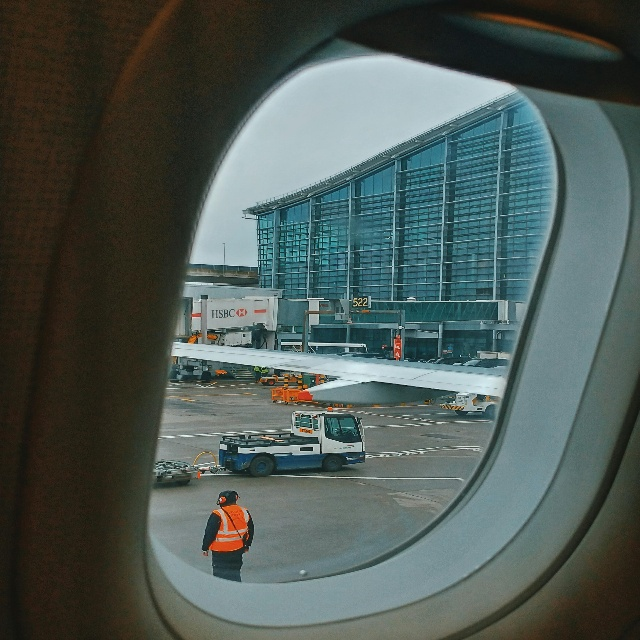Sin_guantes: (202, 550, 209, 557)
